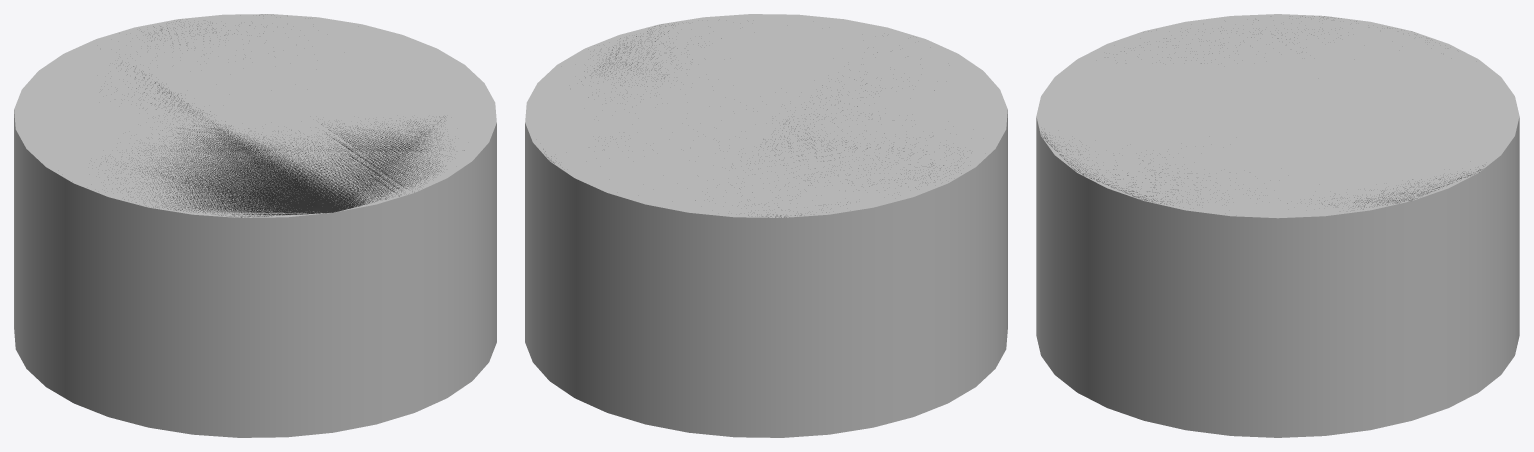
The model's file is Str_S1B_Stage1_Mount.FBX.
3 renders of one model, left to right at view 1: azimuth 30°, elevation 25°; view 2: azimuth 150°, elevation 25°; view 3: azimuth 270°, elevation 25°, orthographic.
Parts seen in each view (by area): view 1: Str_S1B_Stage1_Mount, Str_S1B_Stage1_Mount_Col; view 2: Str_S1B_Stage1_Mount; view 3: Str_S1B_Stage1_Mount, Str_S1B_Stage1_Mount_Col.
Boxes of the visible parts, bbox=[...] form: Str_S1B_Stage1_Mount: bbox=[14, 14, 496, 437]; Str_S1B_Stage1_Mount_Col: bbox=[106, 15, 464, 217]; Str_S1B_Stage1_Mount: bbox=[525, 14, 1007, 437]; Str_S1B_Stage1_Mount: bbox=[1036, 14, 1519, 437]; Str_S1B_Stage1_Mount_Col: bbox=[1041, 16, 1483, 209].
Size of the model in its own units: 375 by 188 by 375.
